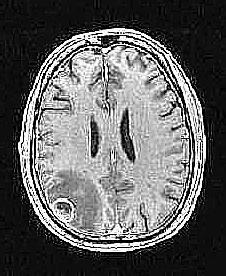Normal_Brain: (1, 1, 226, 276)
